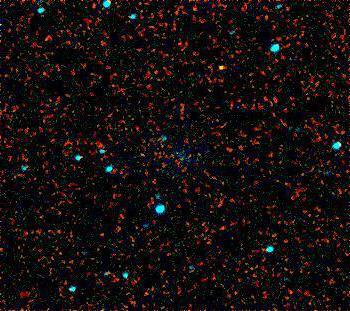star: (208, 52, 238, 82)
